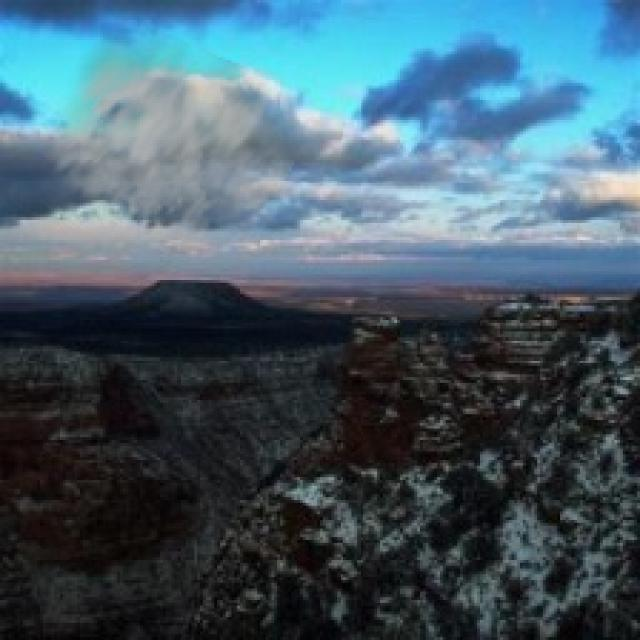smoke: (34, 14, 309, 254)
